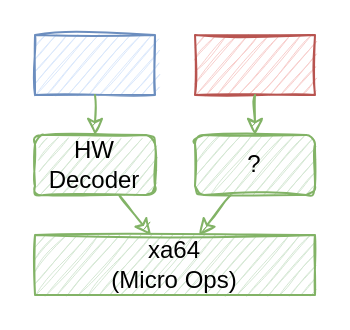
Some shapes in this 350 by 330 pixel diagram are drawn without their labels. The centre of each missing label's shape, as x and y in pixels:
"a64 (Host)" goes at (x=94, y=64).
"x64 (Guest)" goes at (x=254, y=64).
